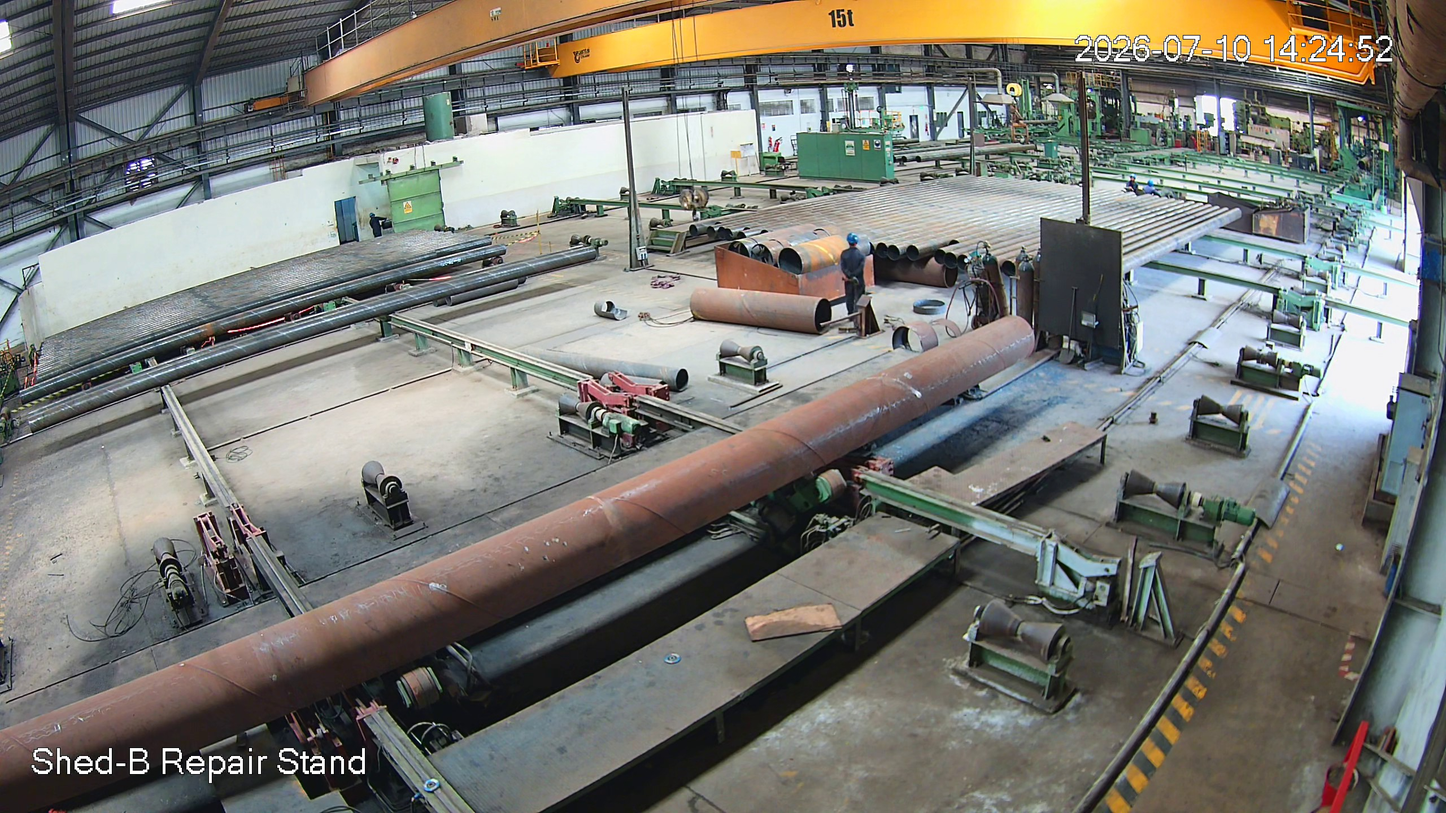Helmet: (846, 230, 860, 249)
Person: (842, 231, 864, 325)
